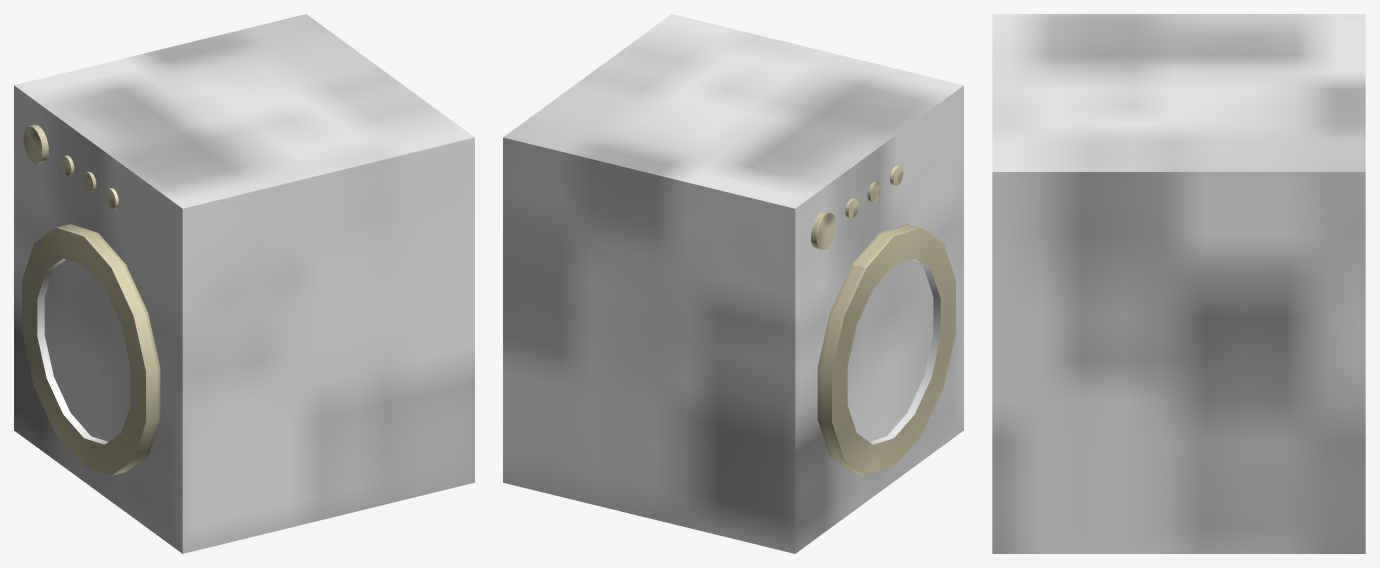
Rendered from Washing_Machine.fbx.
3 renders of one model, left to right at view 1: azimuth 30°, elevation 25°; view 2: azimuth 150°, elevation 25°; view 3: azimuth 270°, elevation 25°, orthographic. The views are drawn at different scales.
Visible parts, largest first — view 1: pCube13; view 2: pCube13; view 3: pCube13.
Part boxes in pixels (bbox=[...]): pCube13: bbox=[14, 14, 474, 553]; pCube13: bbox=[503, 14, 963, 553]; pCube13: bbox=[992, 14, 1365, 553].
Bounding box in the file's own units: 6.07 × 6.53 × 5.78.
